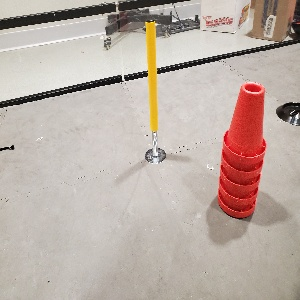Red_5: (217, 80, 265, 218)
